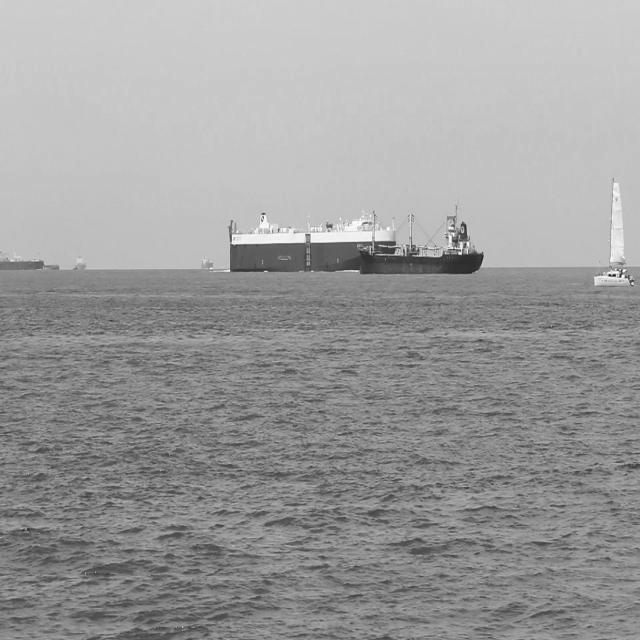ship: (225, 206, 399, 276), (354, 197, 488, 278), (592, 168, 636, 288), (0, 248, 48, 276), (70, 250, 88, 274), (200, 254, 214, 274)
